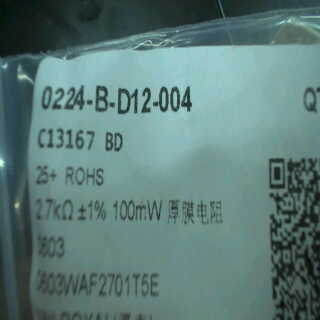2.7kR: (28, 191, 77, 224)
